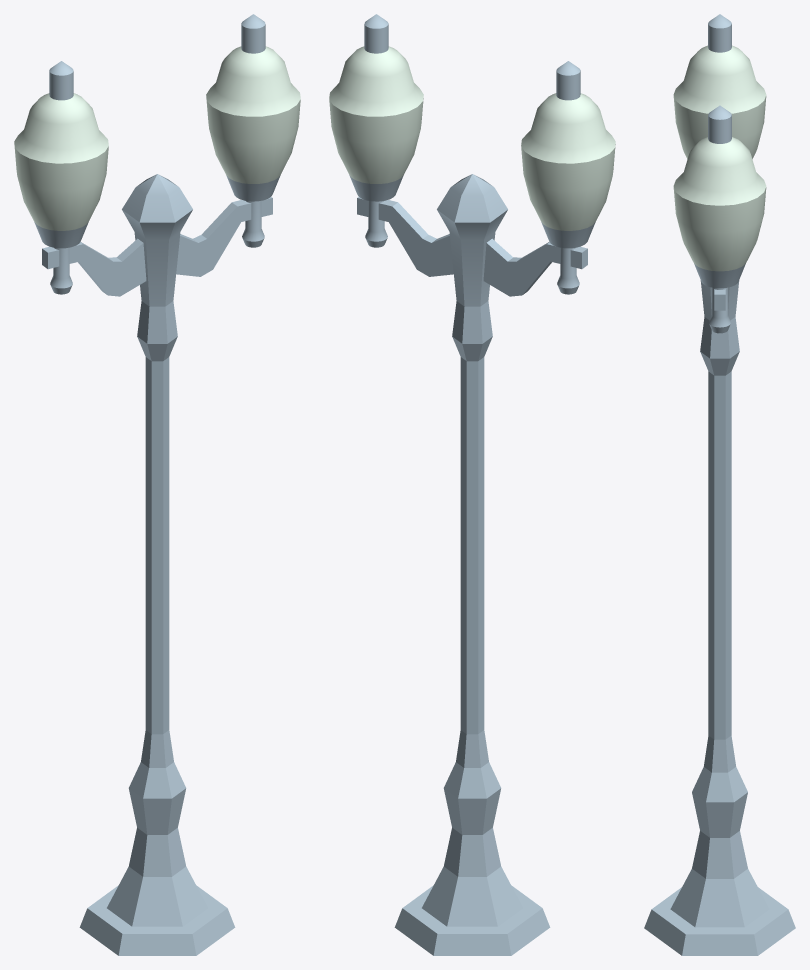
Rendered from streetlight_15.fbx.
3 renders of one model, left to right at view 1: azimuth 30°, elevation 25°; view 2: azimuth 150°, elevation 25°; view 3: azimuth 270°, elevation 25°, orthographic. The views are drawn at different scales.
Visible parts, largest first — view 1: streetlight_15, pSphere22 (×2), pPlane23, pPlane21; view 2: streetlight_15, pSphere22 (×2), pPlane23, pPlane21; view 3: streetlight_15, pSphere22 (×2).
Boxes of the visible parts, x1,y1,x2,y2 form: streetlight_15: [79, 174, 235, 955]; pSphere22 (×2): [14, 14, 300, 294]; pPlane23: [42, 238, 146, 296]; pPlane21: [176, 197, 272, 276]; streetlight_15: [394, 174, 550, 955]; pSphere22 (×2): [329, 14, 615, 294]; pPlane23: [483, 238, 587, 296]; pPlane21: [357, 197, 453, 276]; streetlight_15: [644, 280, 795, 955]; pSphere22 (×2): [673, 14, 766, 333].
Bounding box in the file's own units: 2.95 × 9.15 × 1.45.
